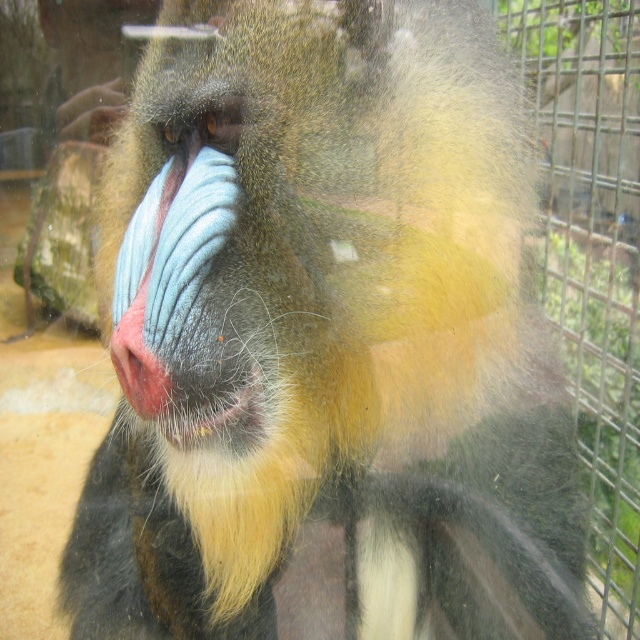Monkey: (56, 0, 602, 639)
